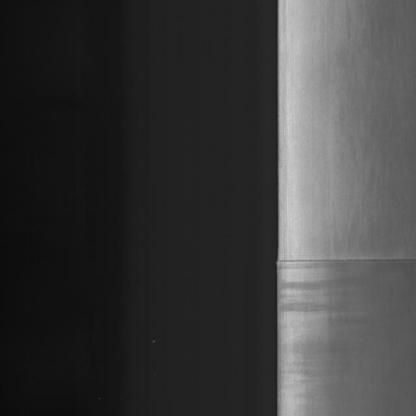welding_line: (279, 253, 415, 269)
